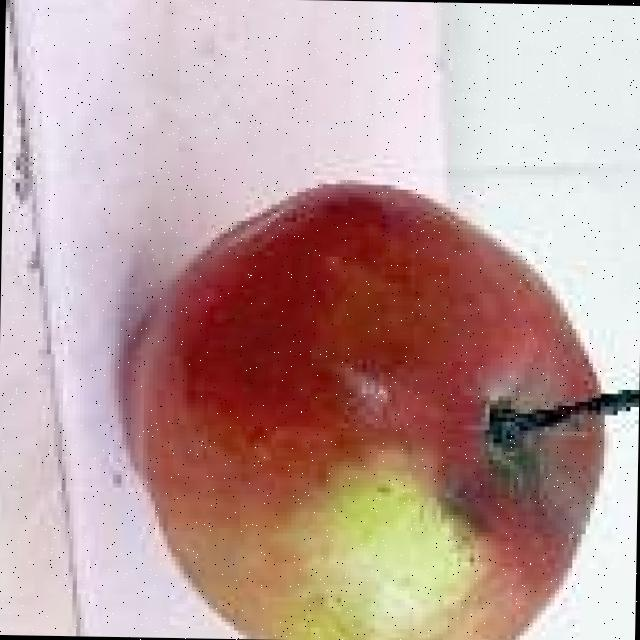Good_Apple 10-21 days: (120, 182, 639, 640)
